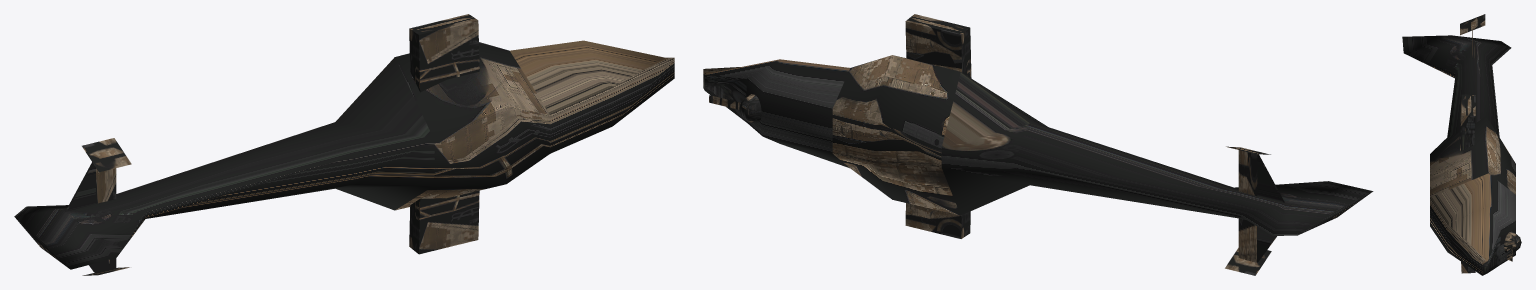
Rendered from veh_t6_air_attack_heli_mp_light_LOD1.obj.
3 views of the same model, side by side, from view 1: azimuth 30°, elevation 25°; view 2: azimuth 150°, elevation 25°; view 3: azimuth 270°, elevation 25° (orthographic). The views are drawn at different scales.
Visible parts, largest first — view 1: mtl_veh_air_ah94_body_light; view 2: mtl_veh_air_ah94_body_light; view 3: mtl_veh_air_ah94_body_light.
Boxes of the visible parts, bbox=[...] form: mtl_veh_air_ah94_body_light: bbox=[14, 14, 674, 275]; mtl_veh_air_ah94_body_light: bbox=[703, 14, 1373, 275]; mtl_veh_air_ah94_body_light: bbox=[1402, 14, 1521, 275].
Bounding box in the file's own units: 1409 × 448 × 307.
